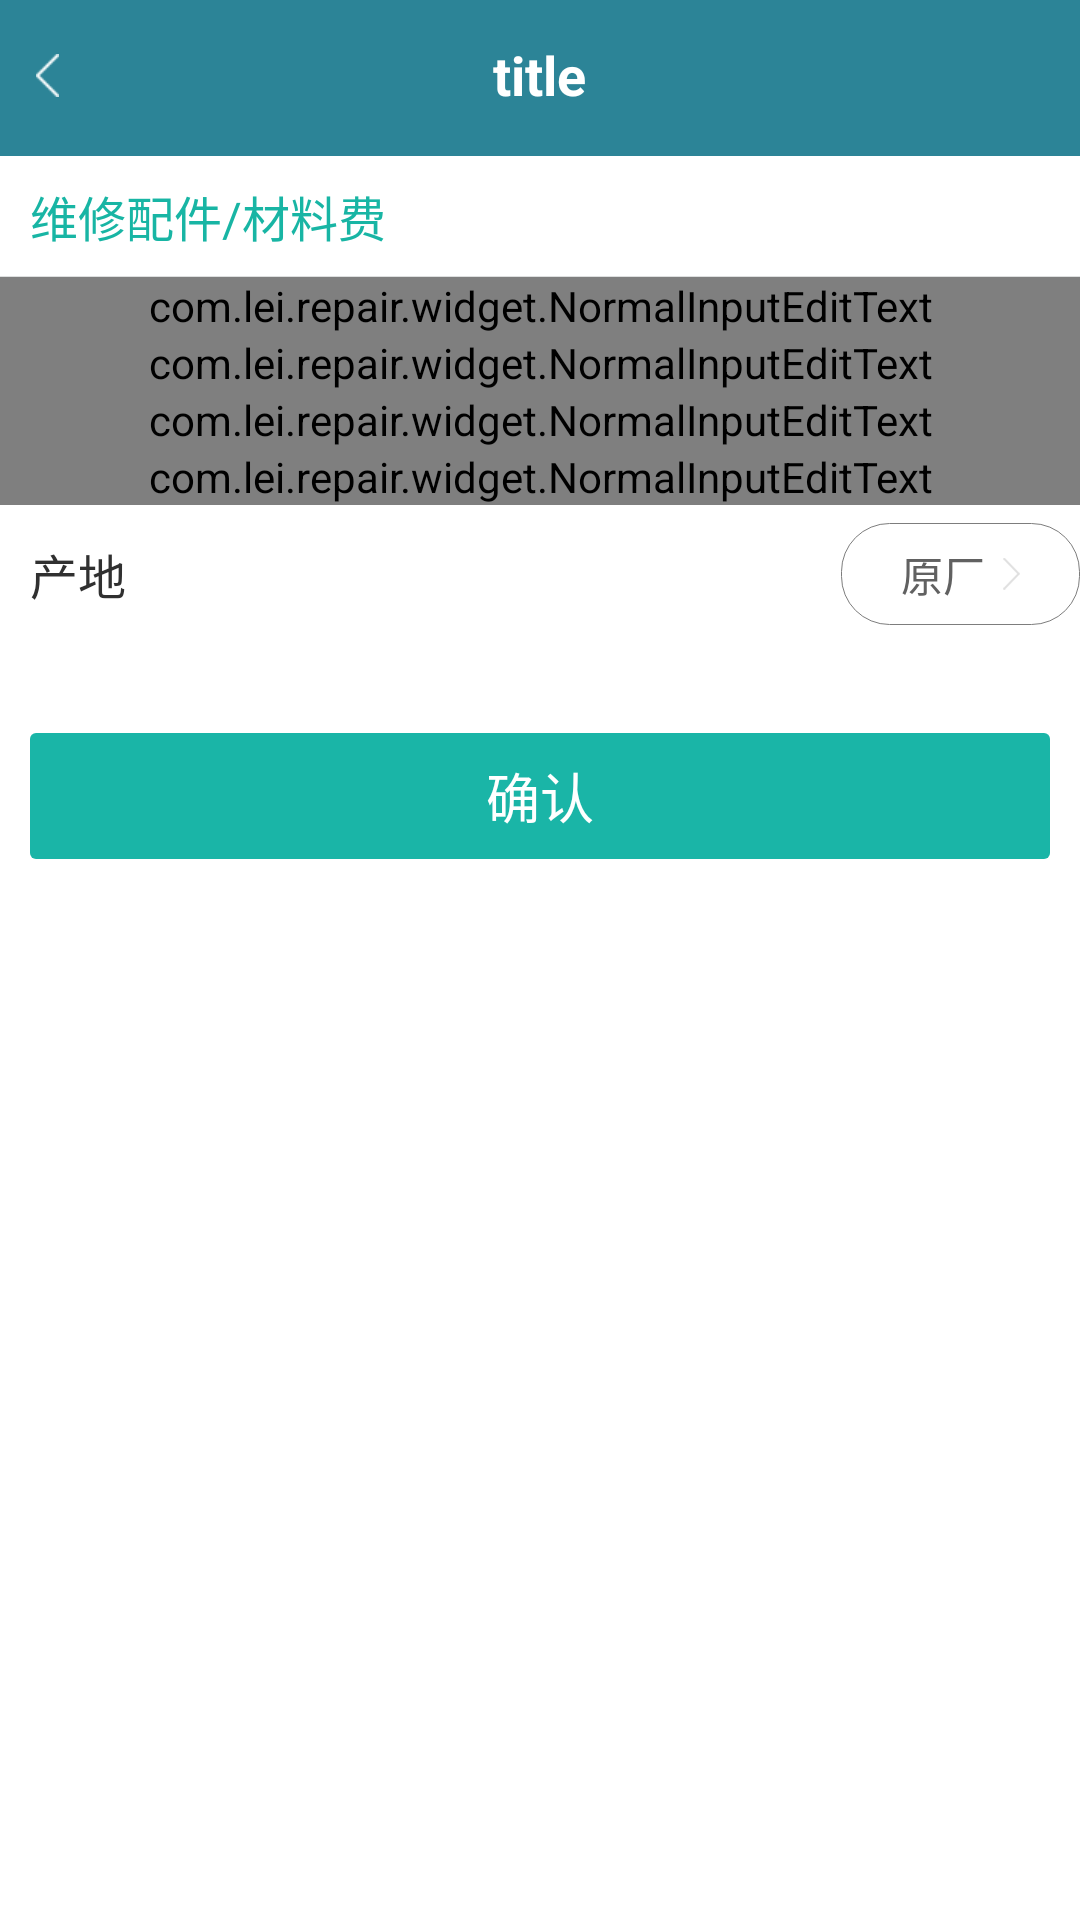

Named icons in this screenshot (1080*1920) and their centers, point (x, y):
re baclk: point (47, 75)
